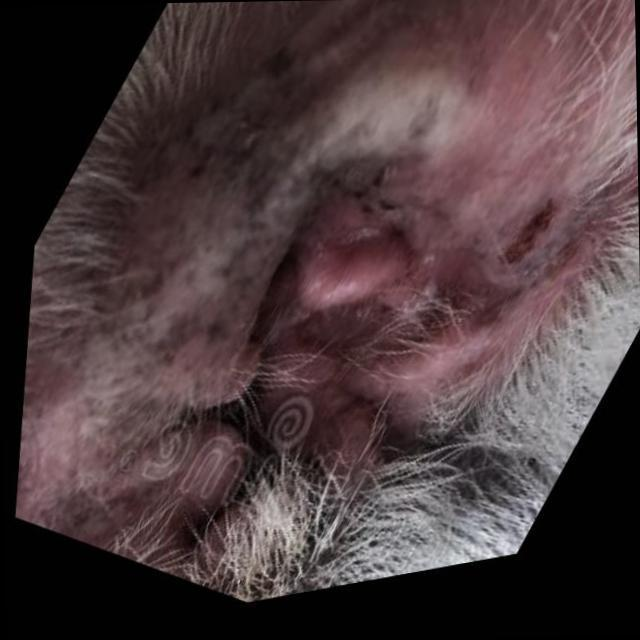fungal infection: (105, 250, 251, 392), (185, 94, 344, 215), (474, 168, 563, 284), (529, 77, 582, 175), (350, 150, 422, 222), (397, 99, 438, 138), (260, 46, 298, 85), (534, 20, 564, 56)
